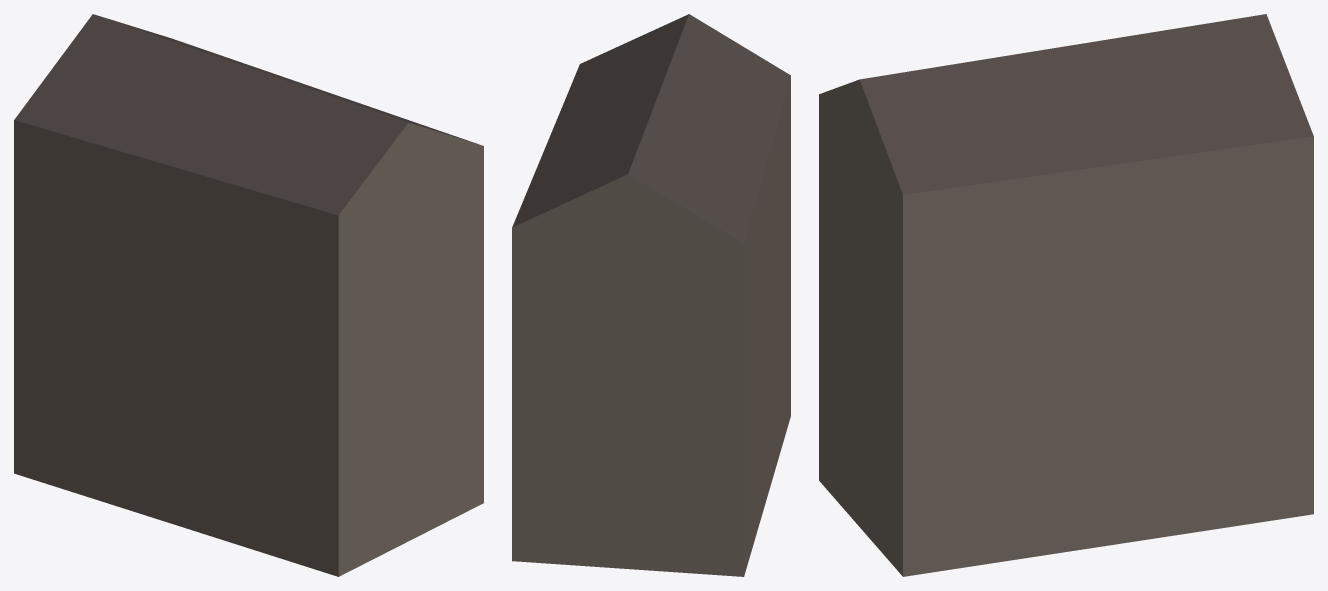
3 renders of one model, left to right at view 1: azimuth 30°, elevation 25°; view 2: azimuth 150°, elevation 25°; view 3: azimuth 270°, elevation 25°, orthographic. The views are drawn at different scales.
Parts seen in each view (by area): view 1: HP-w783664814; view 2: HP-w783664814; view 3: HP-w783664814.
Part boxes in pixels (<box>): HP-w783664814: <box>14,14,483,576</box>; HP-w783664814: <box>512,14,790,576</box>; HP-w783664814: <box>819,14,1313,576</box>.
Size of the model in its own units: 5.72 by 7.11 by 7.12.
